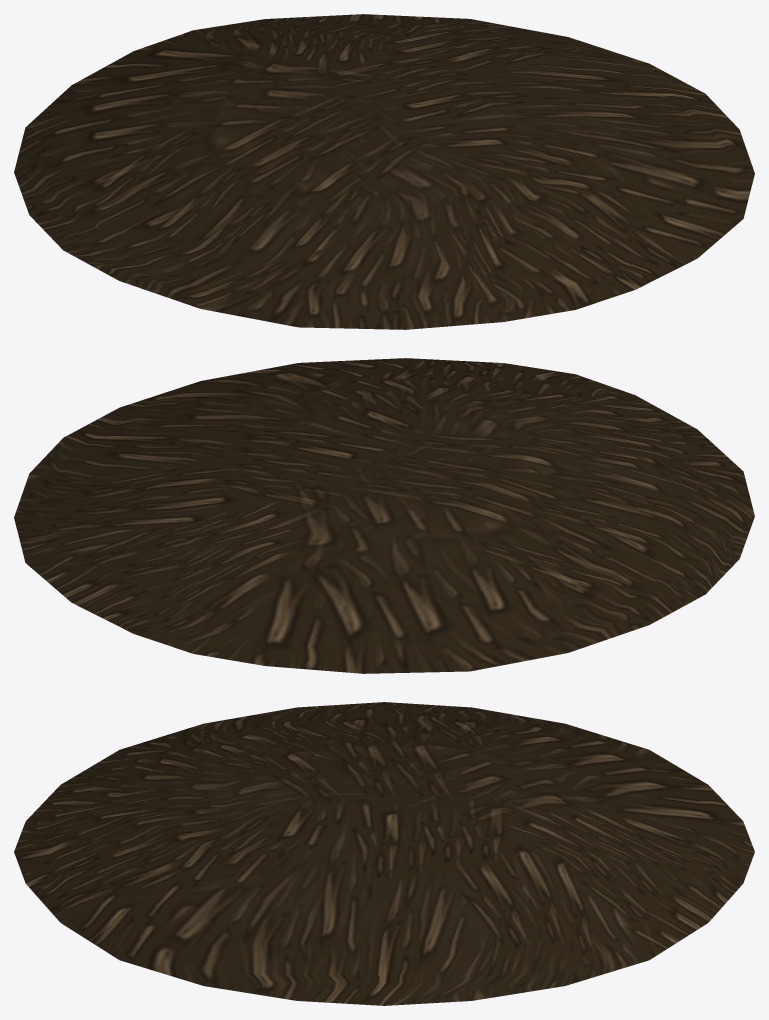
File: Tambark_001.fbx
3 renders of one model, top to bottom at view 1: azimuth 30°, elevation 25°; view 2: azimuth 150°, elevation 25°; view 3: azimuth 270°, elevation 25°, orthographic. The views are drawn at different scales.
Parts seen in each view (by area): view 1: Tambark_001; view 2: Tambark_001; view 3: Tambark_001.
Boxes of the visible parts, x1,y1,x2,y2 form: Tambark_001: (14,14,754,329); Tambark_001: (14,358,754,673); Tambark_001: (14,702,754,1005).
Size of the model in its own units: 1781 by 154 by 1835.
